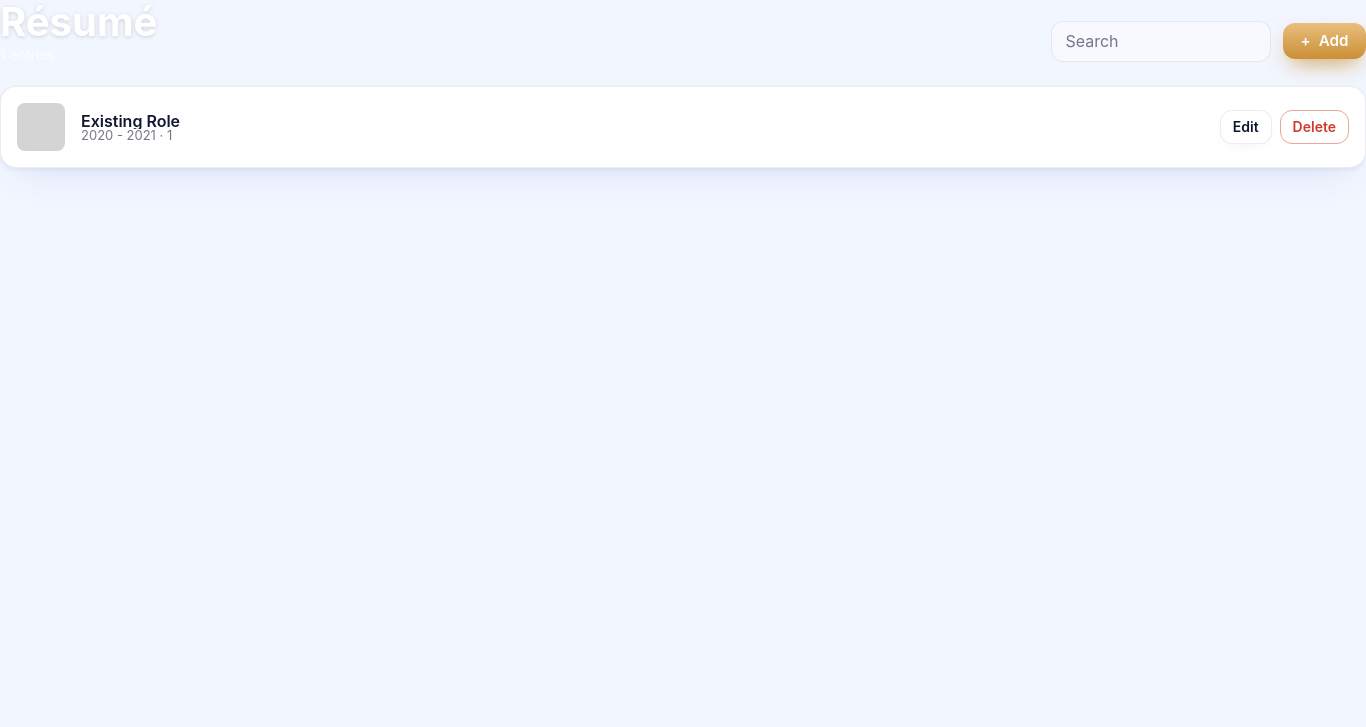
Test: WorkEditor CRUD contract › labels every field with a human-readable name
Click the button "+ Add" at (1324, 41), box [1283,24,1365,59]
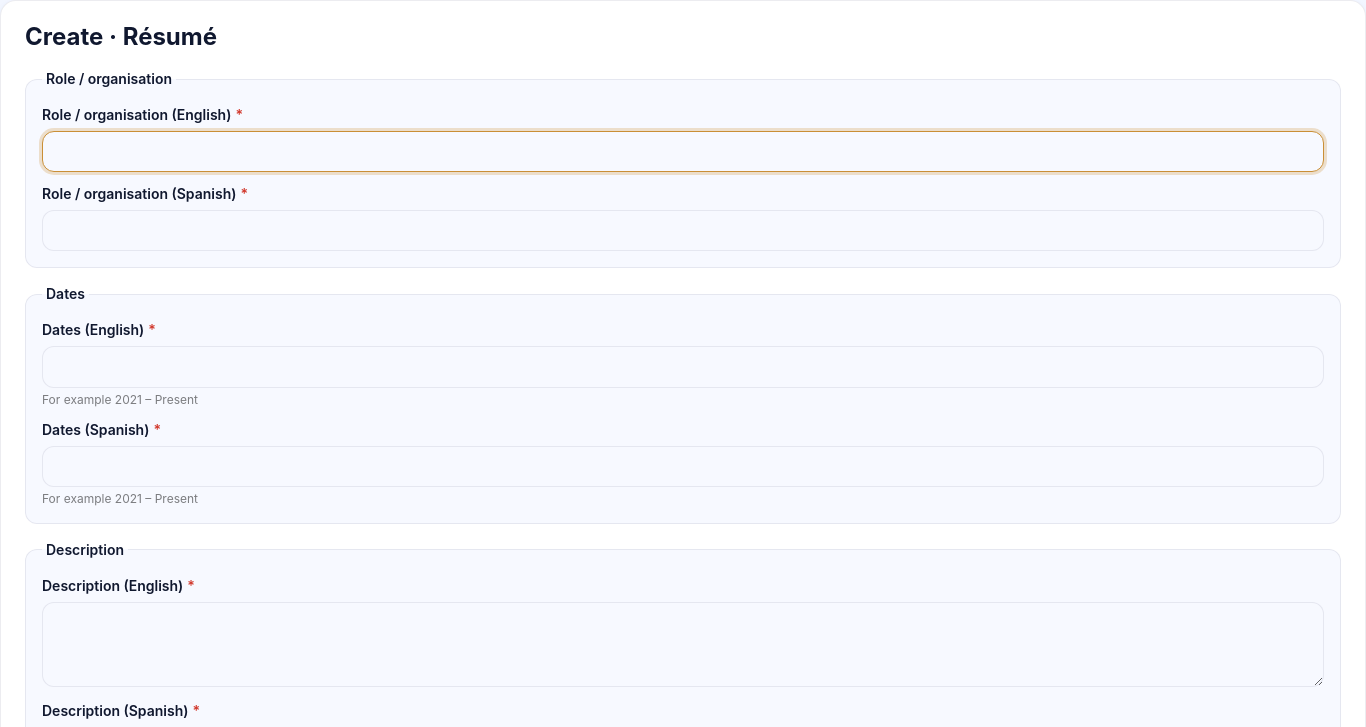
Expected: the field labelled "Role / organisation (English)*" is shown, [42,131,1324,172]
